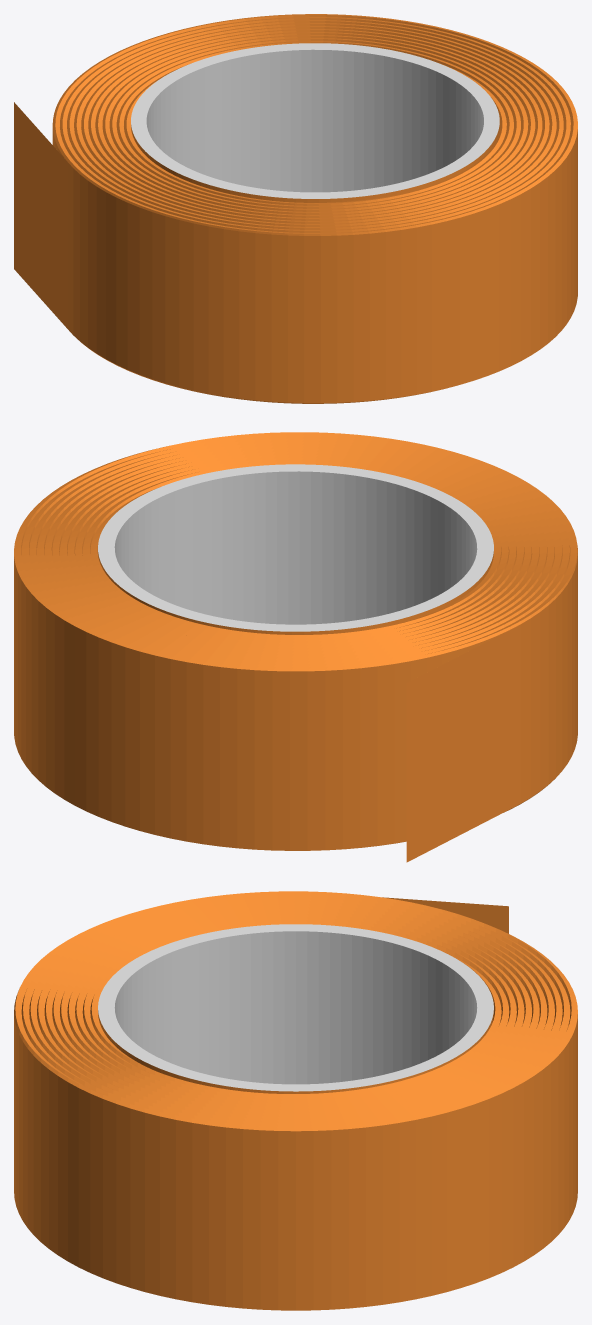
The model's file is tape3.fbx.
3 renders of one model, top to bottom at view 1: azimuth 30°, elevation 25°; view 2: azimuth 150°, elevation 25°; view 3: azimuth 270°, elevation 25°, orthographic. The views are drawn at different scales.
Visible parts, largest first — view 1: Cylinder; view 2: Cylinder; view 3: Cylinder.
Boxes of the visible parts, x1,y1,x2,y2 form: Cylinder: [14, 14, 577, 403]; Cylinder: [14, 432, 577, 862]; Cylinder: [14, 891, 577, 1310].
Bounding box in the file's own units: 5.43 × 1.99 × 5.43.
